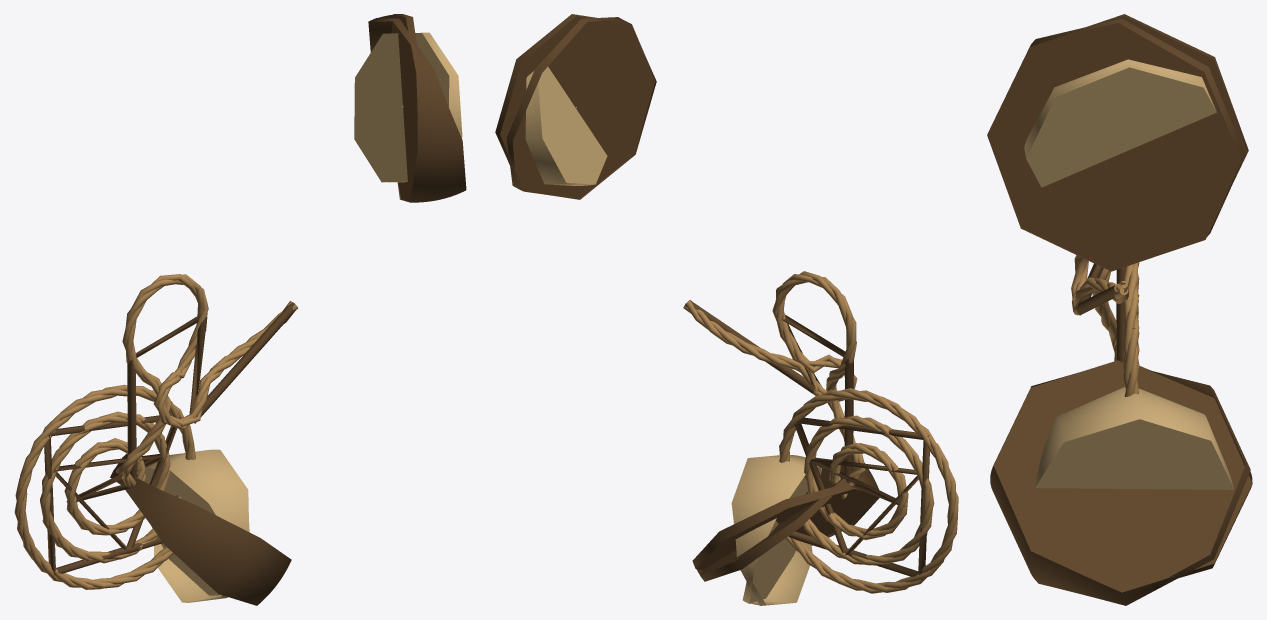
The picture shows the model from 3 angles, left to right: view 1: azimuth 30°, elevation 25°; view 2: azimuth 150°, elevation 25°; view 3: azimuth 270°, elevation 25°; orthographic projection. The views are drawn at different scales.
Visible parts, largest first — view 1: chapter-1; view 2: chapter-1; view 3: chapter-1.
Boxes of the visible parts, x1,y1,x2,y2 form: chapter-1: [14, 14, 466, 605]; chapter-1: [495, 14, 958, 605]; chapter-1: [987, 14, 1252, 605].
Bounding box in the file's own units: 1.65 × 2 × 0.6905.
